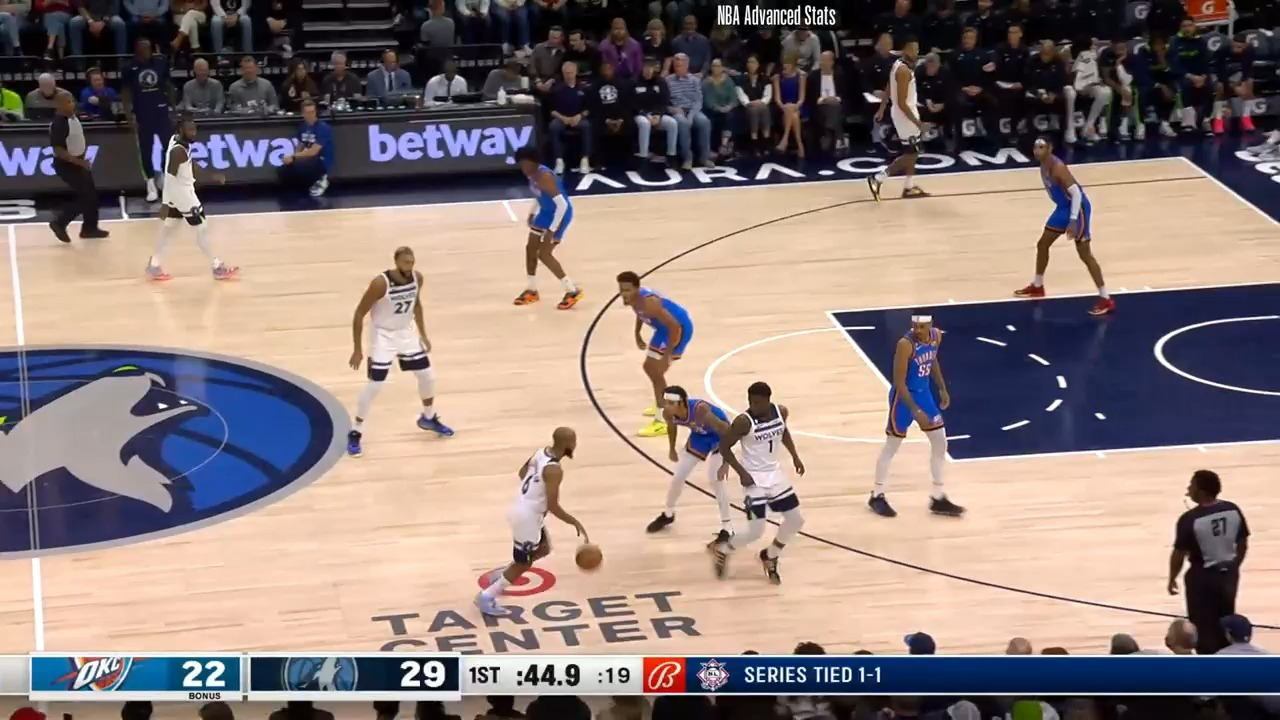player: (479, 423, 602, 624), (346, 247, 456, 460), (705, 379, 804, 587), (865, 309, 959, 522), (1020, 135, 1119, 308), (141, 117, 237, 291), (652, 384, 749, 544), (612, 272, 698, 441), (509, 151, 584, 314), (869, 38, 932, 205)
referee: (1160, 471, 1245, 646), (36, 84, 103, 255)
